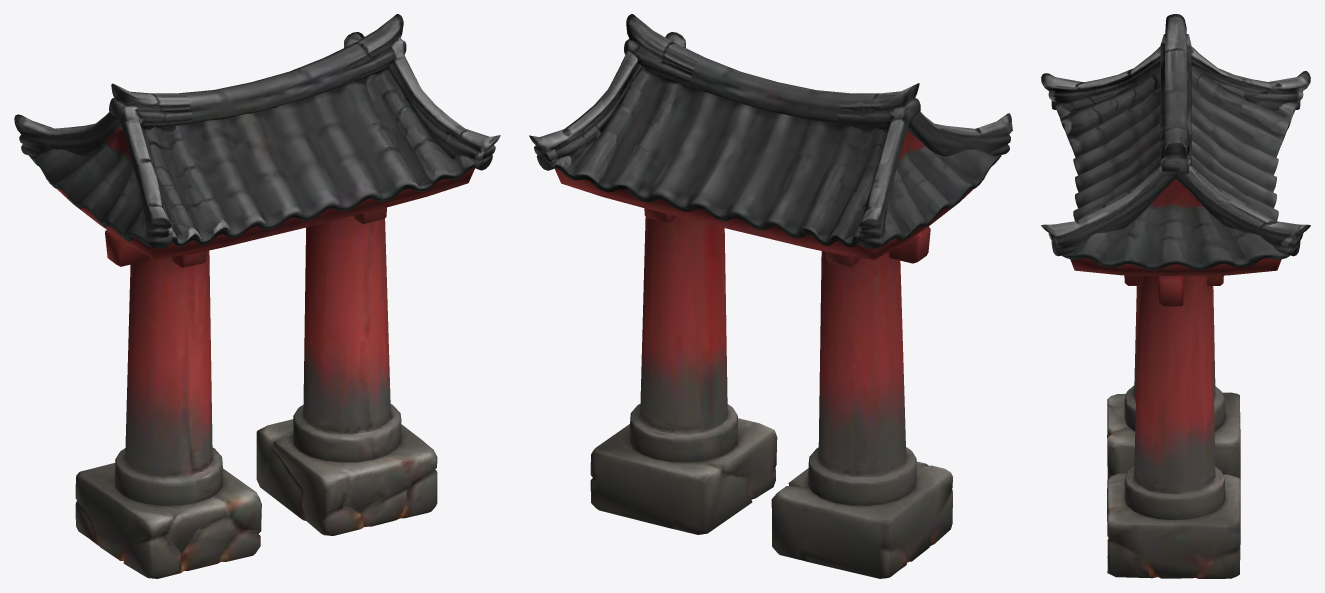
File: p_hwa.glb
The picture shows the model from 3 angles, left to right: view 1: azimuth 30°, elevation 25°; view 2: azimuth 150°, elevation 25°; view 3: azimuth 270°, elevation 25°; orthographic projection. The views are drawn at different scales.
Visible parts, largest first — view 1: tripo_node_e3221343-a387-40c5-8e80-d25039e1b1ee; view 2: tripo_node_e3221343-a387-40c5-8e80-d25039e1b1ee; view 3: tripo_node_e3221343-a387-40c5-8e80-d25039e1b1ee.
Boxes of the visible parts, x1=… form: tripo_node_e3221343-a387-40c5-8e80-d25039e1b1ee: x1=14, y1=14, x2=500, y2=578; tripo_node_e3221343-a387-40c5-8e80-d25039e1b1ee: x1=529, y1=14, x2=1012, y2=578; tripo_node_e3221343-a387-40c5-8e80-d25039e1b1ee: x1=1041, y1=14, x2=1310, y2=578.
Bounding box in the file's own units: 0.7807 × 0.9995 × 0.562.
Materials: 1 (1 with a texture image).
